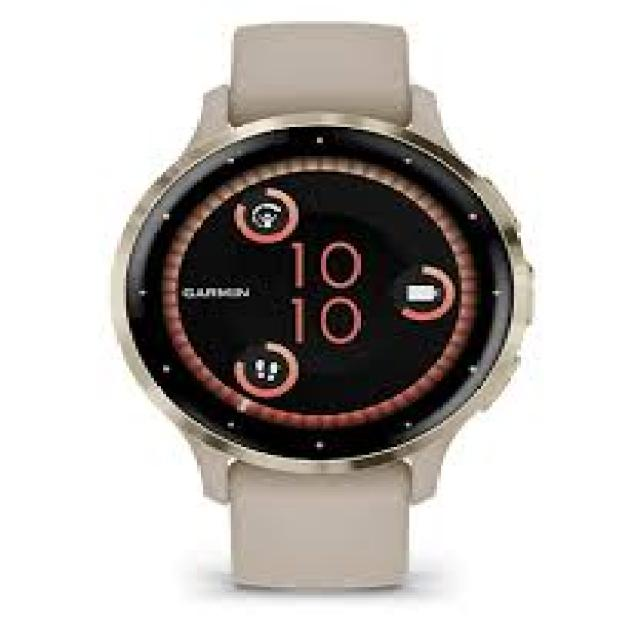objects: (114, 24, 529, 587)
